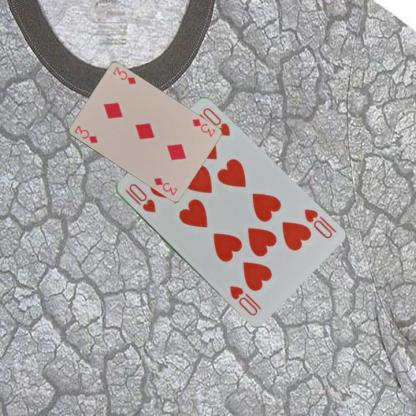10h: (121, 181, 156, 214), (301, 206, 333, 240)
3d: (72, 122, 98, 145), (189, 116, 216, 138)
